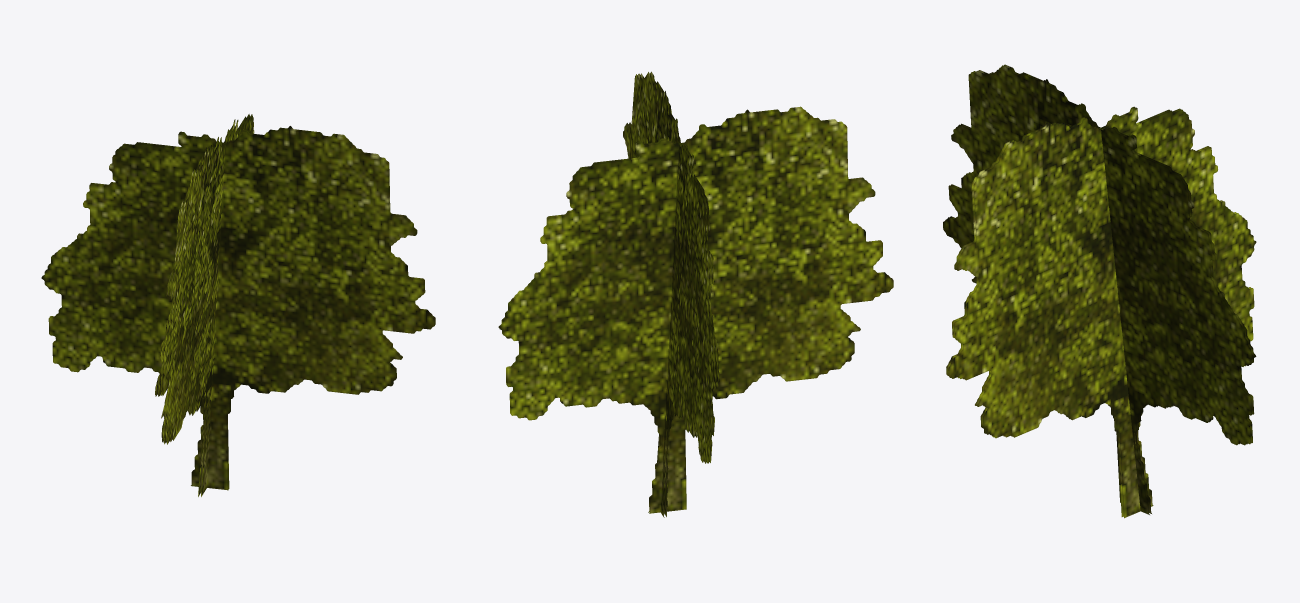
The model's file is tree027.fbx.
3 renders of one model, left to right at view 1: azimuth 30°, elevation 25°; view 2: azimuth 150°, elevation 25°; view 3: azimuth 270°, elevation 25°, orthographic. The views are drawn at different scales.
Parts seen in each view (by area): view 1: tree027; view 2: tree027; view 3: tree027.
Boxes of the visible parts, x1,y1,x2,y2 form: tree027: (41,114,435,496); tree027: (498,71,893,517); tree027: (943,64,1256,518).
Size of the model in its own units: 240 by 310 by 228.
1 material, 1 textured.
